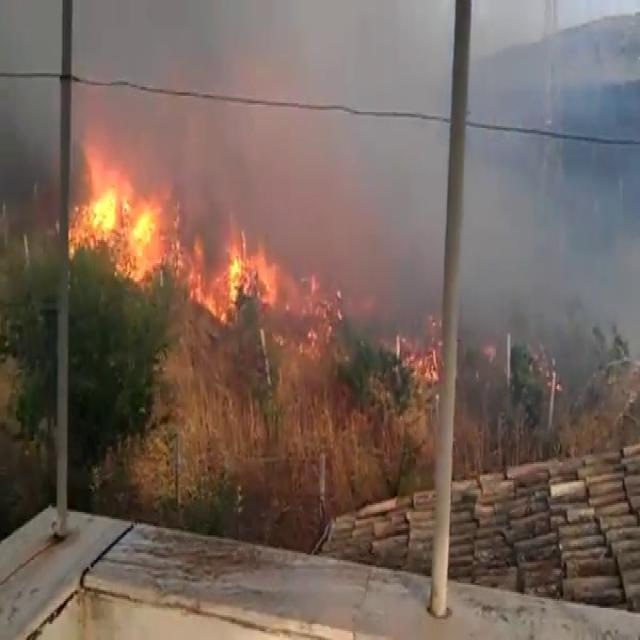Fire: (67, 162, 170, 278), (210, 226, 280, 320)
Smoke: (78, 1, 639, 383)
